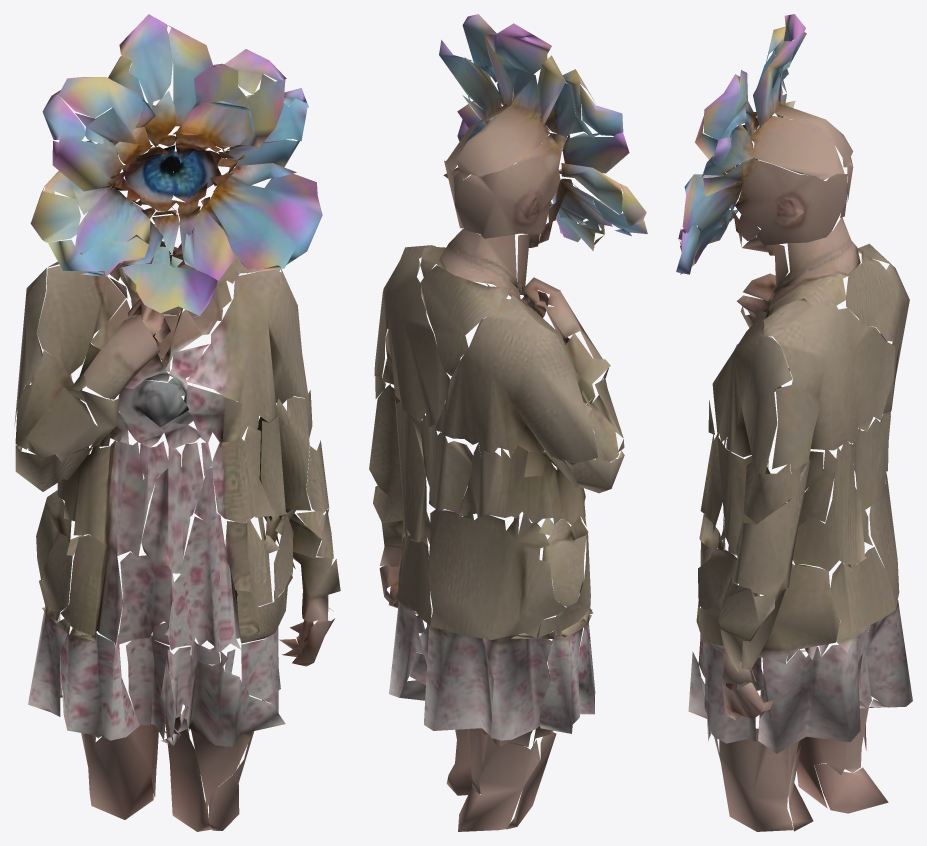
Rendered from crowd_rosemary_full.glb.
3 renders of one model, left to right at view 1: azimuth 30°, elevation 25°; view 2: azimuth 150°, elevation 25°; view 3: azimuth 270°, elevation 25°, orthographic. The views are drawn at different scales.
Parts seen in each view (by area): view 1: tripo_node_c2bd8c0d-a308-427d-9c4a-32c9a3a762b1; view 2: tripo_node_c2bd8c0d-a308-427d-9c4a-32c9a3a762b1; view 3: tripo_node_c2bd8c0d-a308-427d-9c4a-32c9a3a762b1.
Part boxes in pixels (x1,y1,x2,y2): tripo_node_c2bd8c0d-a308-427d-9c4a-32c9a3a762b1: (14, 14, 340, 831); tripo_node_c2bd8c0d-a308-427d-9c4a-32c9a3a762b1: (369, 14, 647, 831); tripo_node_c2bd8c0d-a308-427d-9c4a-32c9a3a762b1: (676, 14, 912, 831).
Bounding box in the file's own units: 0.3812 × 1 × 0.2739.
1 material, 1 textured.
